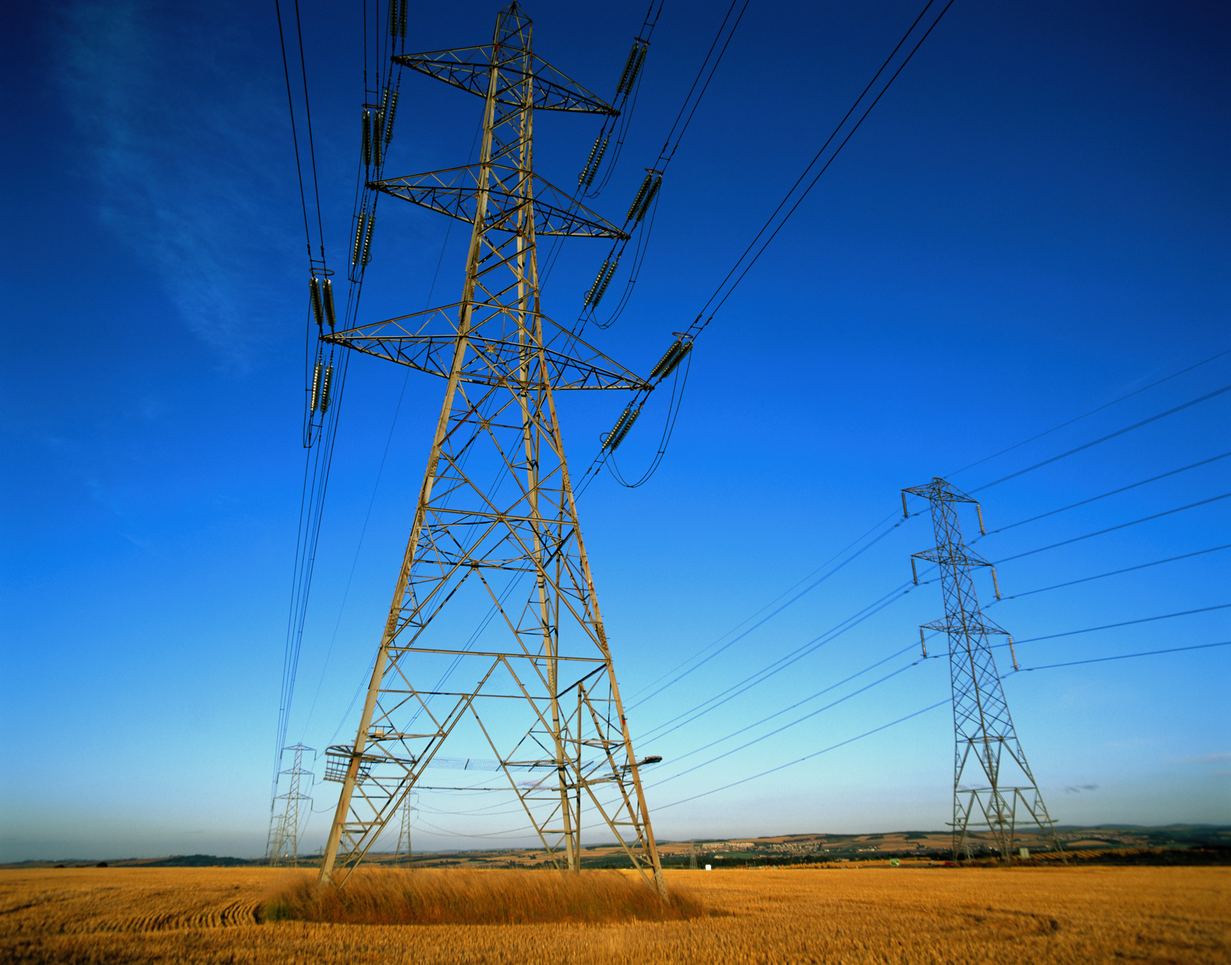insulator: (600, 406, 653, 460), (612, 38, 656, 103), (648, 332, 698, 386), (574, 136, 618, 196), (304, 269, 341, 340), (622, 172, 668, 229), (347, 208, 383, 278), (583, 256, 626, 312), (310, 360, 341, 418), (377, 82, 406, 144), (361, 104, 386, 173), (386, 0, 417, 44), (1002, 633, 1023, 671), (989, 564, 1003, 601), (974, 502, 988, 534), (908, 555, 921, 586), (899, 490, 912, 518), (918, 625, 929, 657)
